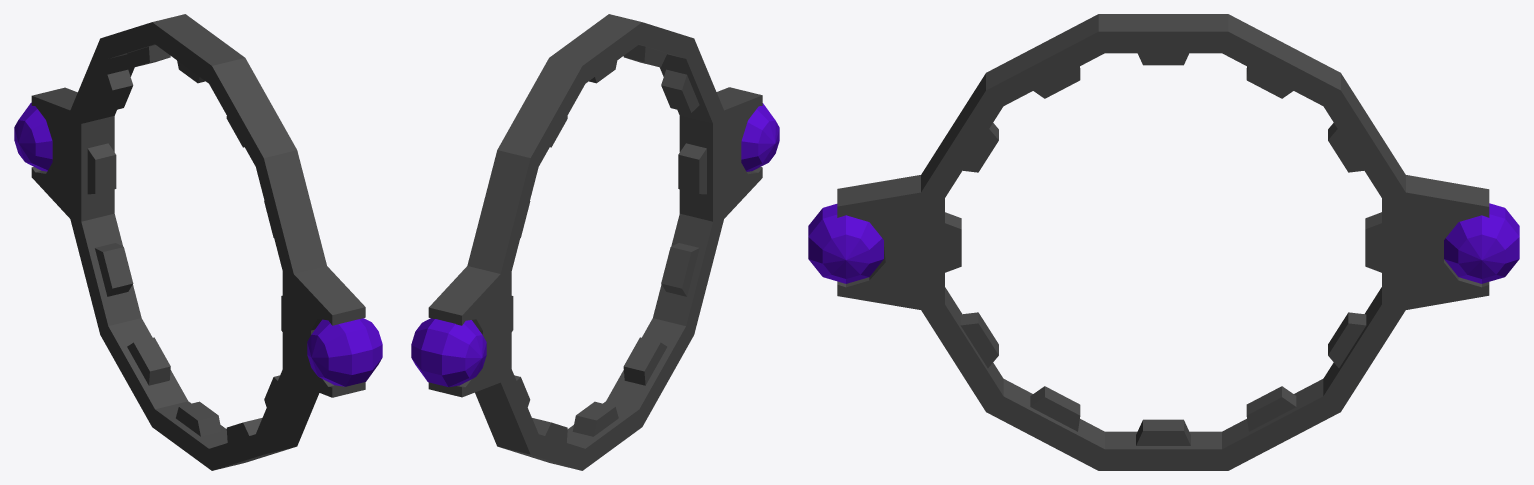
File: Warp Gate Export.FBX
The picture shows the model from 3 angles, left to right: view 1: azimuth 30°, elevation 25°; view 2: azimuth 150°, elevation 25°; view 3: azimuth 270°, elevation 25°; orthographic projection. The views are drawn at different scales.
Parts seen in each view (by area): view 1: Cylinder001; view 2: Cylinder001; view 3: Cylinder001.
Part boxes in pixels (box(x1,y1,x2,y2)): Cylinder001: box(14, 14, 382, 470); Cylinder001: box(411, 14, 779, 470); Cylinder001: box(808, 14, 1519, 470).
Bounding box in the file's own units: 99.83 × 579 × 849.
